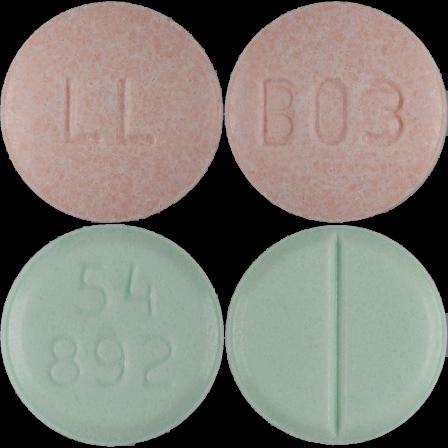63629-3739: (0, 0, 224, 224)
